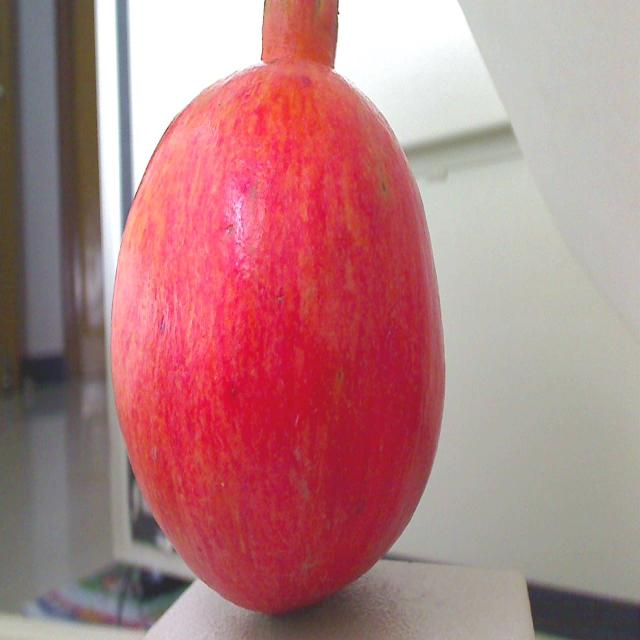pomegranate: (99, 0, 450, 612)
